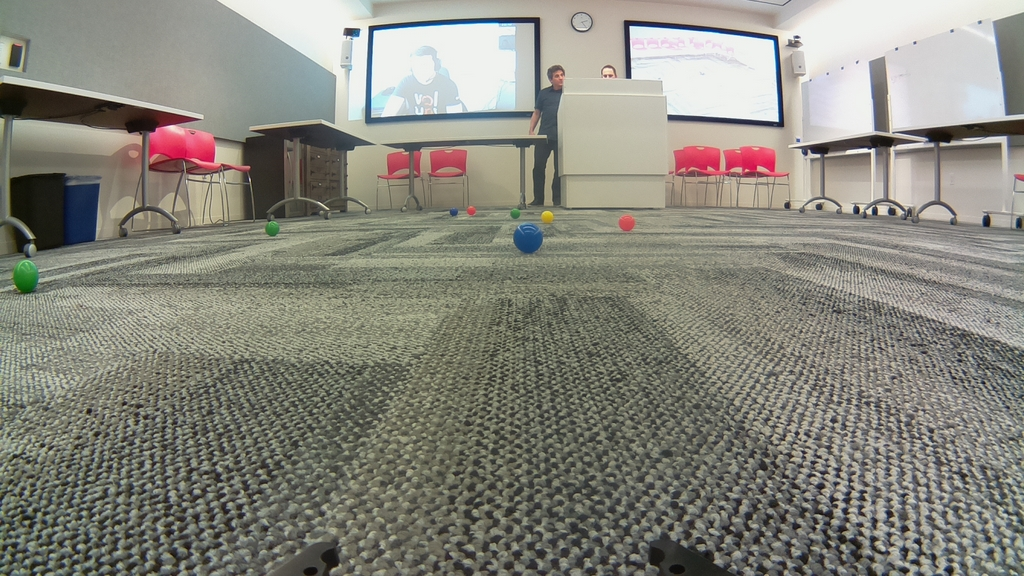ball: (514, 224, 543, 253)
